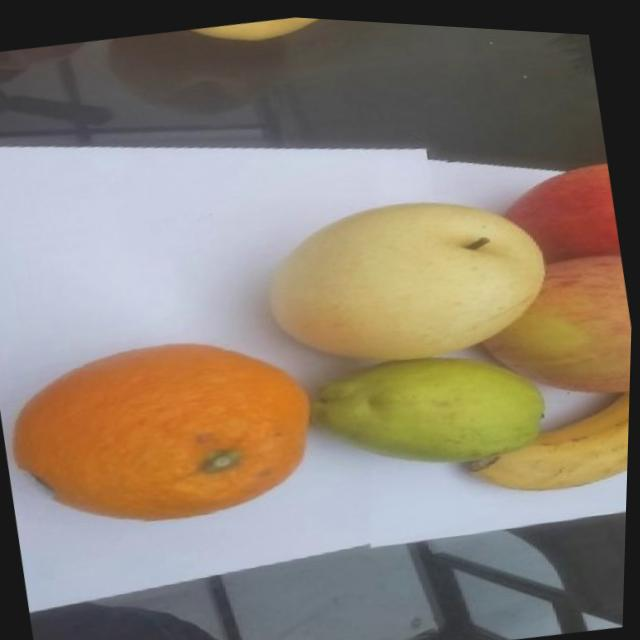Apple: (467, 236, 635, 409), (496, 149, 623, 266)
Banana: (457, 373, 632, 503)
Orange: (0, 311, 332, 553)
